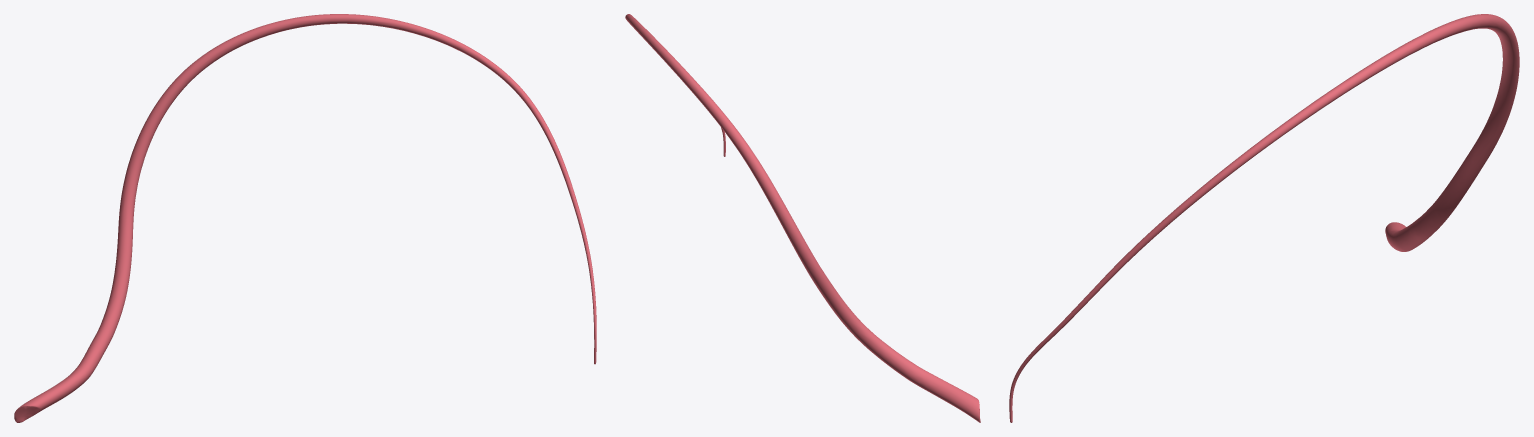
File: fma18904_fj3510.glb
3 views of the same model, side by side, from view 1: azimuth 30°, elevation 25°; view 2: azimuth 150°, elevation 25°; view 3: azimuth 270°, elevation 25° (orthographic). The views are drawn at different scales.
Parts seen in each view (by area): view 1: FMA18904_FJ3510; view 2: FMA18904_FJ3510; view 3: FMA18904_FJ3510.
Part boxes in pixels (left/top/right/bottom): FMA18904_FJ3510: left=14, top=14, right=596, bottom=422; FMA18904_FJ3510: left=625, top=14, right=980, bottom=422; FMA18904_FJ3510: left=1009, top=14, right=1519, bottom=422.
Size of the model in its own units: 0.1134 by 0.0779 by 0.087.
